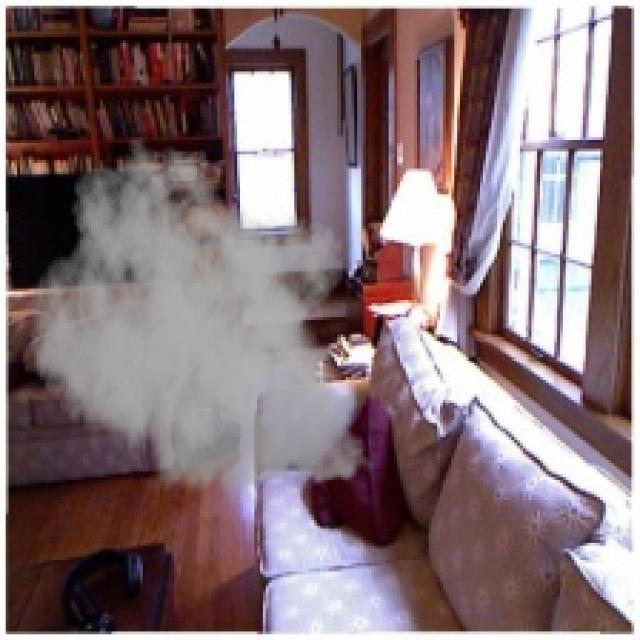smoke: (29, 134, 380, 506)
